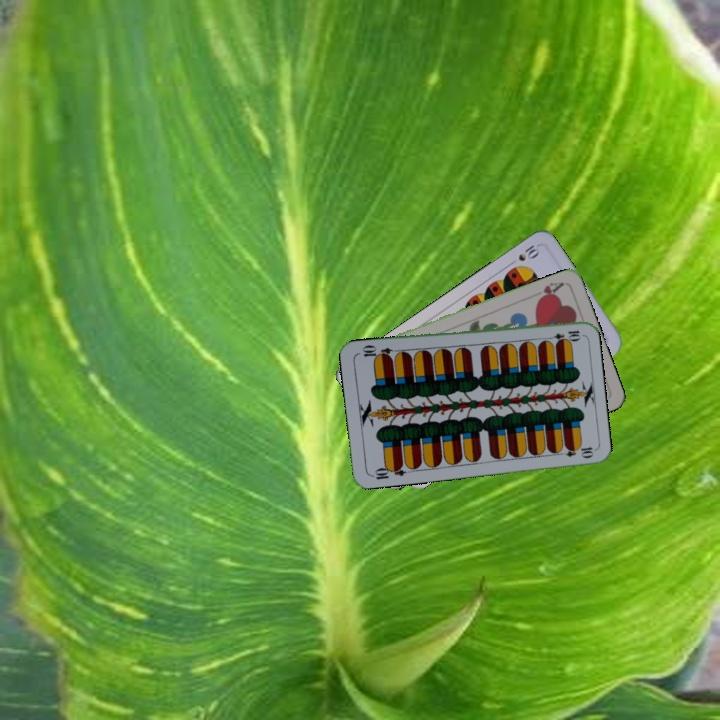E10: (367, 460, 408, 482), (542, 326, 583, 343)
HA: (532, 278, 566, 304)
S10: (505, 240, 542, 268)
